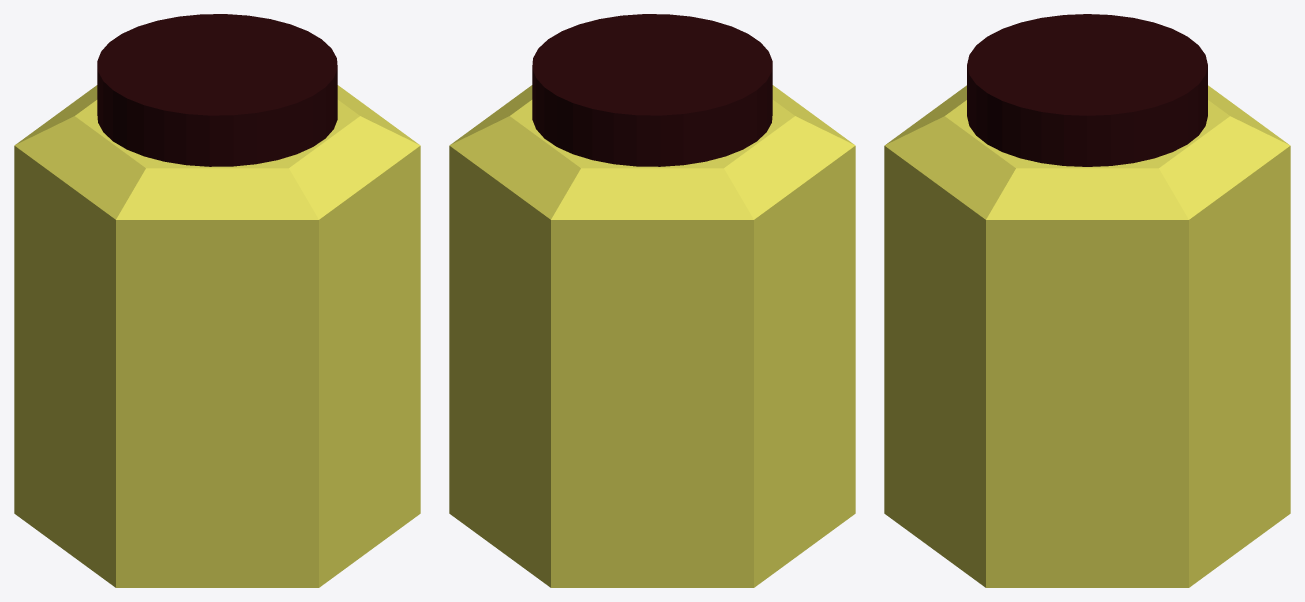
The model's file is jar.glb.
The picture shows the model from 3 angles, left to right: view 1: azimuth 30°, elevation 25°; view 2: azimuth 150°, elevation 25°; view 3: azimuth 270°, elevation 25°; orthographic projection.
Visible parts, largest first — view 1: Jar; view 2: Jar; view 3: Jar.
Boxes of the visible parts, x1,y1,x2,y2 form: Jar: (14, 14, 420, 587); Jar: (449, 14, 855, 587); Jar: (884, 14, 1290, 587).
Size of the model in its own units: 1.73 by 2.44 by 2.
